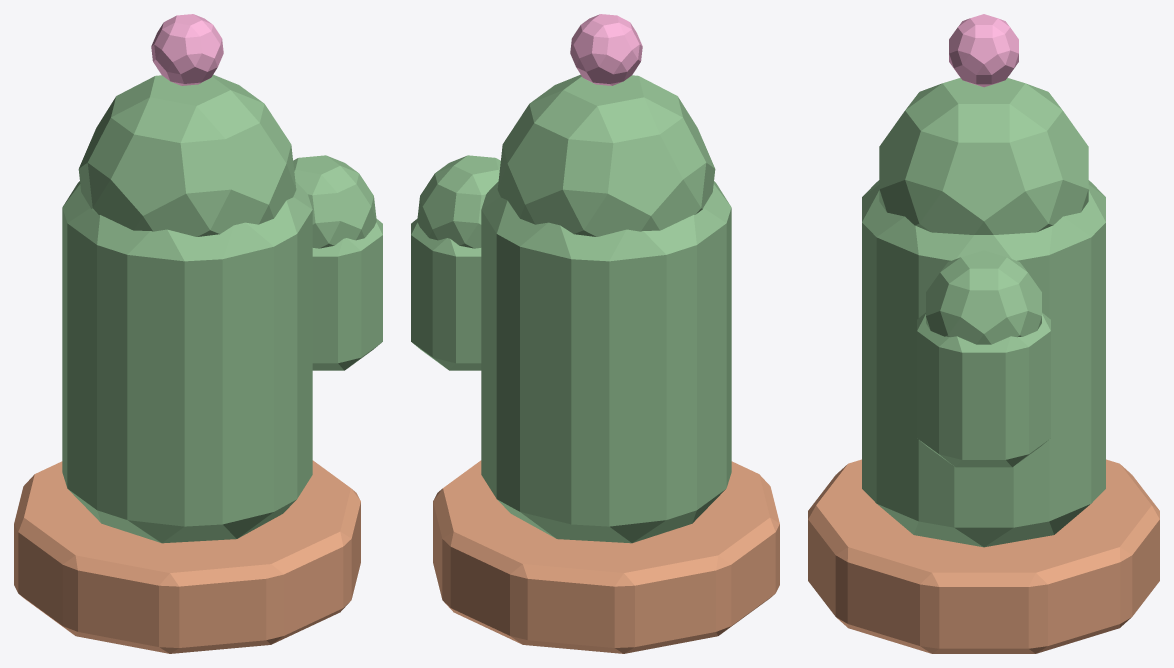
The picture shows the model from 3 angles, left to right: view 1: azimuth 30°, elevation 25°; view 2: azimuth 150°, elevation 25°; view 3: azimuth 270°, elevation 25°; orthographic projection.
Visible parts, largest first — view 1: PostVisual; view 2: PostVisual; view 3: PostVisual.
Boxes of the visible parts, left/top/right/bottom form: PostVisual: left=14, top=14, right=382, bottom=653; PostVisual: left=411, top=14, right=779, bottom=653; PostVisual: left=808, top=14, right=1159, bottom=653.
Size of the model in its own units: 0.1287 by 0.2093 by 0.1178.
